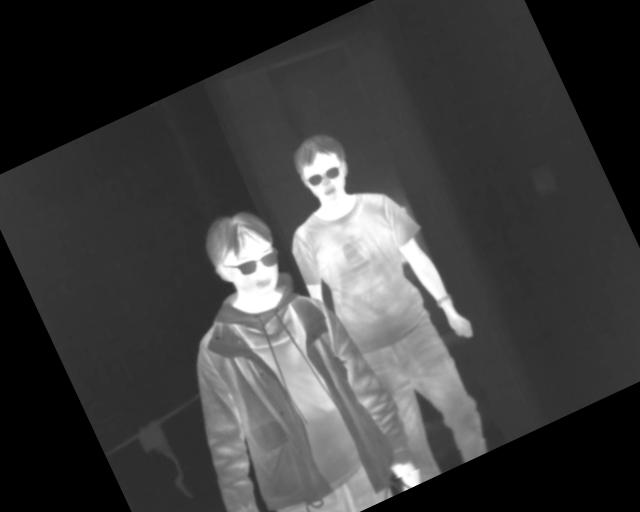face: (194, 199, 293, 310), (284, 125, 362, 213)
